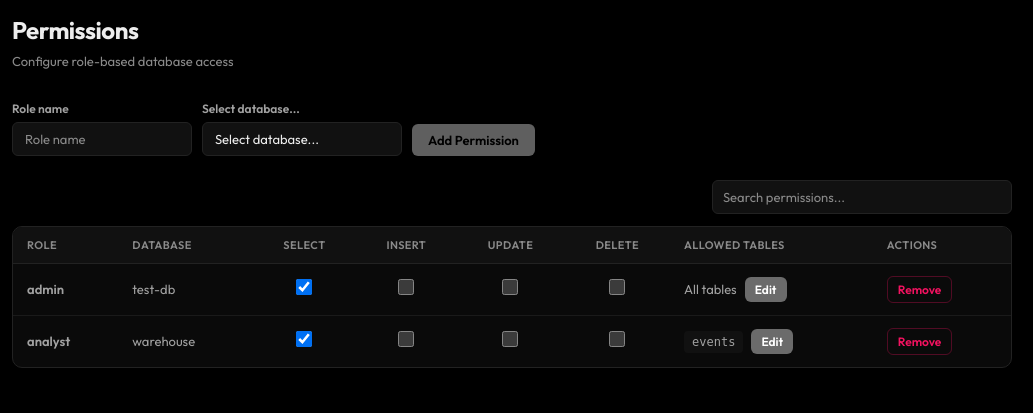
Permissions › filters permissions by search text
Expected: the text "admin" is shown, 13,264 -> 118,316
Type "events" into the search field labelled "Search permissions...".
click(862, 196); type("events")  # box 712,180 -> 1012,214
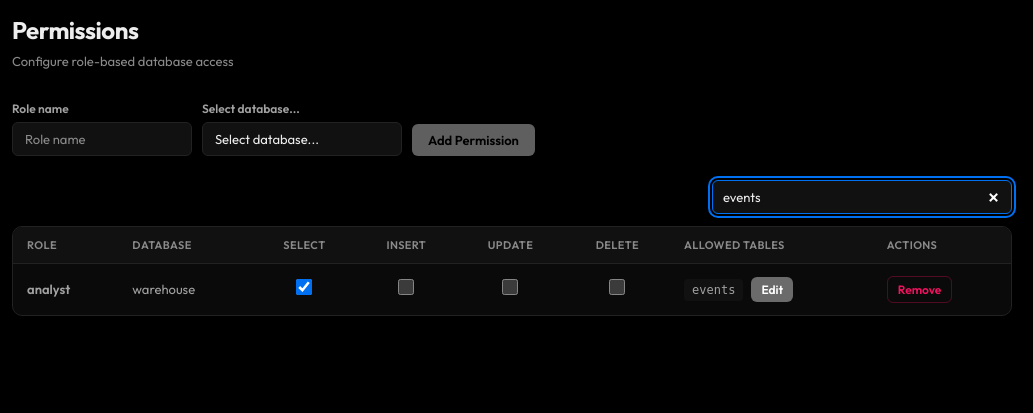
Expected: the text "analyst" is shown, 13,264 -> 118,315
Result: the text "admin" is gone
Replace the text in the search field named "Search permissions" with "missing" at [862, 196], box 712,180 -> 1012,214
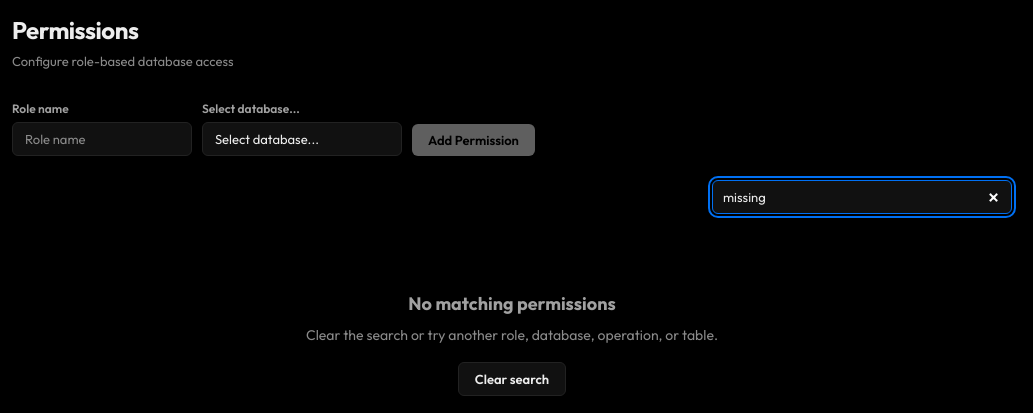
Result: the heading "No matching permissions" is shown at 408,292 -> 616,314
Click the button "Clear search".
click(512, 378)  # box 458,362 -> 566,396
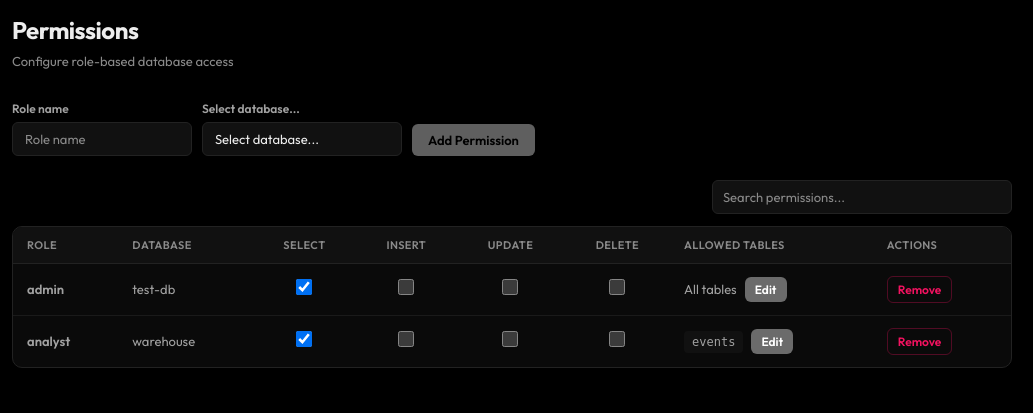
Result: the text "admin" is shown at 13,264 -> 118,316
Result: the text "analyst" is shown at 13,316 -> 118,367
